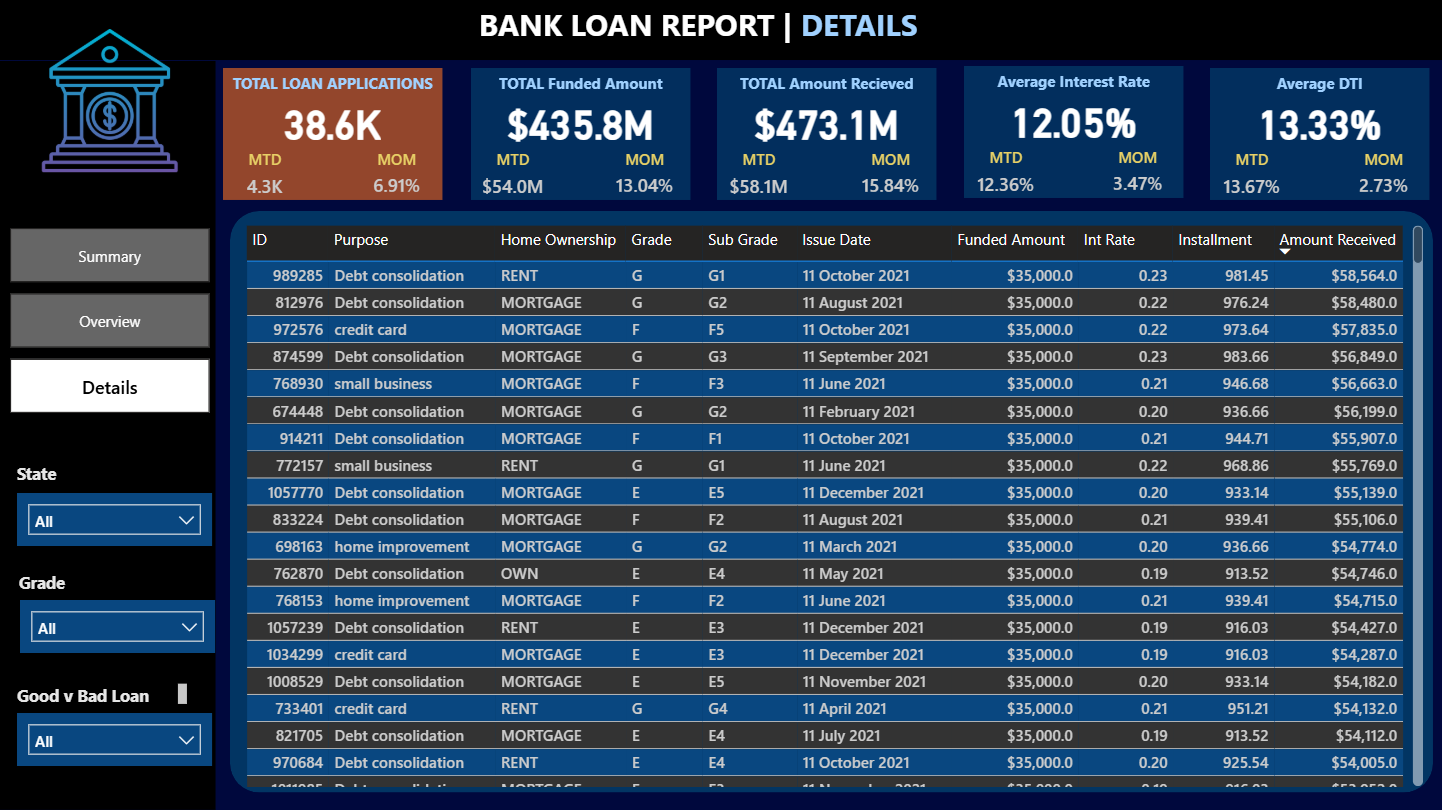

What the dashboard file says about the page in this screenshot:
{"tool":"powerbi","page":{"name":"Details","canvas":[1280,720],"ordinal":2},"visuals":[{"type":"shape","box":[0,0,1280,55],"z":0},{"type":"shape","box":[205.2,188.5,1066.7,515.6],"z":0,"group":"g9"},{"type":"shape","box":[0,55.4,192,664.3],"z":1000},{"type":"textbox","box":[420.2,0,438.7,55.4],"z":2000},{"type":"shape","box":[855.2,60.3,194.6,117.1],"z":3000,"group":"g4"},{"type":"group","id":"g1","title":"Group 1","box":[198.6,62.1,195.1,117],"z":3000},{"type":"shape","box":[198.6,62.1,194.6,117.1],"z":3000,"group":"g1"},{"type":"shape","box":[418.1,62.1,194.6,117.1],"z":3000,"group":"g2"},{"type":"shape","box":[636.7,62.1,194.6,117.1],"z":3000,"group":"g3"},{"type":"shape","box":[1073.8,62.1,194.6,117.1],"z":3000,"group":"g5"},{"type":"group","id":"g2","title":"Group 1","box":[418.1,62.1,194.2,117],"z":4000},{"type":"cardVisual","fields":{"Data":["tbl_bank_loan.Average Interest Rate"]},"box":[855.2,75.1,194.6,69.2],"z":4000,"group":"g4"},{"type":"cardVisual","fields":{"Data":["tbl_bank_loan.Total Loan Application"]},"box":[198.6,76.9,194.6,69.2],"z":4000,"group":"g1"},{"type":"cardVisual","fields":{"Data":["tbl_bank_loan.Total Funded Amount"]},"box":[418.1,76.9,194.6,69.2],"z":4000,"group":"g2"},{"type":"cardVisual","fields":{"Data":["tbl_bank_loan.Total Amount Received"]},"box":[636.7,76.9,194.6,69.2],"z":4000,"group":"g3"},{"type":"cardVisual","fields":{"Data":["tbl_bank_loan.Average DTI"]},"box":[1073.8,76.9,194.6,69.2],"z":4000,"group":"g5"},{"type":"textbox","box":[855.2,60.3,194.6,30.4],"z":5000,"group":"g4"},{"type":"textbox","box":[198.6,62.1,194.6,30.4],"z":5000,"group":"g1"},{"type":"textbox","box":[418.1,62.1,194.6,30.4],"z":5000,"group":"g2"},{"type":"group","id":"g3","title":"Group 1","box":[636.7,62.1,194.2,117],"z":5000},{"type":"textbox","box":[636.7,62.1,194.6,30.4],"z":5000,"group":"g3"},{"type":"textbox","box":[1073.8,62.1,194.6,30.4],"z":5000,"group":"g5"},{"type":"group","id":"g4","title":"Group 1","box":[855.2,60.3,194.2,117],"z":6000},{"type":"cardVisual","title":"MTD ","fields":{"Data":["tbl_bank_loan.MTD Average Interest Rate"]},"box":[855.2,132.2,74.7,45.2],"z":6000,"group":"g4"},{"type":"cardVisual","title":"MTD ","fields":{"Data":["tbl_bank_loan.MTD Loan Applications"]},"box":[198.6,134,74.7,45.2],"z":6000,"group":"g1"},{"type":"cardVisual","title":"MTD ","fields":{"Data":["tbl_bank_loan.MTD Total Funded Amount"]},"box":[418.1,134,74.7,45.2],"z":6000,"group":"g2"},{"type":"cardVisual","title":"MTD ","fields":{"Data":["tbl_bank_loan.MTD Amount Received"]},"box":[636.7,134,74.7,45.2],"z":6000,"group":"g3"},{"type":"cardVisual","title":"MTD ","fields":{"Data":["tbl_bank_loan.MTD Average DTI"]},"box":[1073.8,134,74.7,45.2],"z":6000,"group":"g5"},{"type":"textbox","box":[10.4,406.2,52,31],"z":6000,"group":"g6"},{"type":"group","id":"g5","title":"Group 1","box":[1073.8,62.1,194.2,117],"z":7000},{"type":"cardVisual","title":"MOM","fields":{"Data":["tbl_bank_loan.MOM Average Interest Rate"]},"box":[968.6,132.2,81.2,43.3],"z":7000,"group":"g4"},{"type":"cardVisual","title":"MOM","fields":{"Data":["tbl_bank_loan.MOM Total Loan Application"]},"box":[312,134,81.2,43.3],"z":7000,"group":"g1"},{"type":"cardVisual","title":"MOM","fields":{"Data":["tbl_bank_loan.MOM Funded Amount"]},"box":[531.5,134,81.2,43.3],"z":7000,"group":"g2"},{"type":"cardVisual","title":"MOM","fields":{"Data":["tbl_bank_loan.MOM Amount Received"]},"box":[750.1,134,81.2,43.3],"z":7000,"group":"g3"},{"type":"cardVisual","title":"MOM","fields":{"Data":["tbl_bank_loan.MOM Average DTI"]},"box":[1187.2,134,81.2,43.3],"z":7000,"group":"g5"},{"type":"group","id":"g6","title":"Group 4","box":[10.4,406.2,178.1,80.2],"z":8000},{"type":"group","id":"g7","title":"Group 5","box":[12.5,503.1,179.2,78.1],"z":9000},{"type":"group","id":"g8","title":"Group 6","box":[10.4,603.1,178.1,78.1],"z":10000},{"type":"group","id":"g9","title":"Group 2","box":[205.2,188.5,1066.7,515.6],"z":11000},{"type":"slicer","fields":{"Values":["tbl_bank_loan.grade"]},"box":[18.5,534.1,173,47],"z":11000,"group":"g7"},{"type":"tableEx","fields":{"Values":["tbl_bank_loan.id","tbl_bank_loan.purpose","tbl_bank_loan.home_ownership","tbl_bank_loan.grade","tbl_bank_loan.sub_grade","tbl_bank_loan.issue_date","tbl_bank_loan.Total Funded Amount","Sum(tbl_bank_loan.int_rate)","Sum(tbl_bank_loan.installment)","tbl_bank_loan.Total Amount Received"]},"box":[213.5,196.9,1054.2,507.3],"z":12000},{"type":"slicer","fields":{"Values":["tbl_bank_loan.address_state"]},"box":[15.4,439.2,173,47],"z":12000,"group":"g6"},{"type":"textbox","box":[12.5,503.1,52,31],"z":12000,"group":"g7"},{"type":"image","box":[9.4,27.1,177.1,127.1],"z":13000},{"type":"slicer","fields":{"Values":["tbl_bank_loan.Good v Bad Loan"]},"box":[15.6,634.4,173,47],"z":13000,"group":"g8"},{"type":"pageNavigator","box":[9.4,204.2,177.1,166.7],"z":14000},{"type":"textbox","box":[10.4,603.1,161.4,29.3],"z":14000,"group":"g8"}]}

Visuals, with their boxes in screenshot pixels (x1, y1, x2, y2), scaled from the page's 1280x720 canvas onto the 1442x810 screenshot:
shape: <bbox>0, 0, 1441, 62</bbox>
shape: <bbox>231, 212, 1433, 792</bbox>
shape: <bbox>0, 62, 216, 809</bbox>
textbox: <bbox>473, 0, 968, 62</bbox>
shape: <bbox>963, 68, 1183, 200</bbox>
"Group 1" group: <bbox>224, 70, 444, 201</bbox>
shape: <bbox>224, 70, 443, 202</bbox>
shape: <bbox>471, 70, 690, 202</bbox>
shape: <bbox>717, 70, 937, 202</bbox>
shape: <bbox>1210, 70, 1429, 202</bbox>
"Group 1" group: <bbox>471, 70, 690, 201</bbox>
cardVisual - tbl_bank_loan.Average Interest Rate: <bbox>963, 84, 1183, 162</bbox>
cardVisual - tbl_bank_loan.Total Loan Application: <bbox>224, 87, 443, 164</bbox>
cardVisual - tbl_bank_loan.Total Funded Amount: <bbox>471, 87, 690, 164</bbox>
cardVisual - tbl_bank_loan.Total Amount Received: <bbox>717, 87, 937, 164</bbox>
cardVisual - tbl_bank_loan.Average DTI: <bbox>1210, 87, 1429, 164</bbox>
textbox: <bbox>963, 68, 1183, 102</bbox>
textbox: <bbox>224, 70, 443, 104</bbox>
textbox: <bbox>471, 70, 690, 104</bbox>
"Group 1" group: <bbox>717, 70, 936, 201</bbox>
textbox: <bbox>717, 70, 937, 104</bbox>
textbox: <bbox>1210, 70, 1429, 104</bbox>
"Group 1" group: <bbox>963, 68, 1182, 199</bbox>
"MTD " cardVisual: <bbox>963, 149, 1048, 200</bbox>
"MTD " cardVisual: <bbox>224, 151, 308, 202</bbox>
"MTD " cardVisual: <bbox>471, 151, 555, 202</bbox>
"MTD " cardVisual: <bbox>717, 151, 801, 202</bbox>
"MTD " cardVisual: <bbox>1210, 151, 1294, 202</bbox>
textbox: <bbox>12, 457, 70, 492</bbox>
"Group 1" group: <bbox>1210, 70, 1428, 201</bbox>
"MOM" cardVisual: <bbox>1091, 149, 1183, 197</bbox>
"MOM" cardVisual: <bbox>351, 151, 443, 199</bbox>
"MOM" cardVisual: <bbox>599, 151, 690, 199</bbox>
"MOM" cardVisual: <bbox>845, 151, 937, 199</bbox>
"MOM" cardVisual: <bbox>1337, 151, 1429, 199</bbox>
"Group 4" group: <bbox>12, 457, 212, 547</bbox>
"Group 5" group: <bbox>14, 566, 216, 654</bbox>
"Group 6" group: <bbox>12, 678, 212, 766</bbox>
"Group 2" group: <bbox>231, 212, 1433, 792</bbox>
slicer - tbl_bank_loan.grade: <bbox>21, 601, 216, 654</bbox>
tableEx - tbl_bank_loan.id x tbl_bank_loan.purpose: <bbox>241, 222, 1428, 792</bbox>
slicer - tbl_bank_loan.address_state: <bbox>17, 494, 212, 547</bbox>
textbox: <bbox>14, 566, 73, 601</bbox>
image: <bbox>11, 30, 210, 173</bbox>
slicer - tbl_bank_loan.Good v Bad Loan: <bbox>18, 714, 212, 767</bbox>
pageNavigator: <bbox>11, 230, 210, 417</bbox>
textbox: <bbox>12, 678, 194, 711</bbox>
